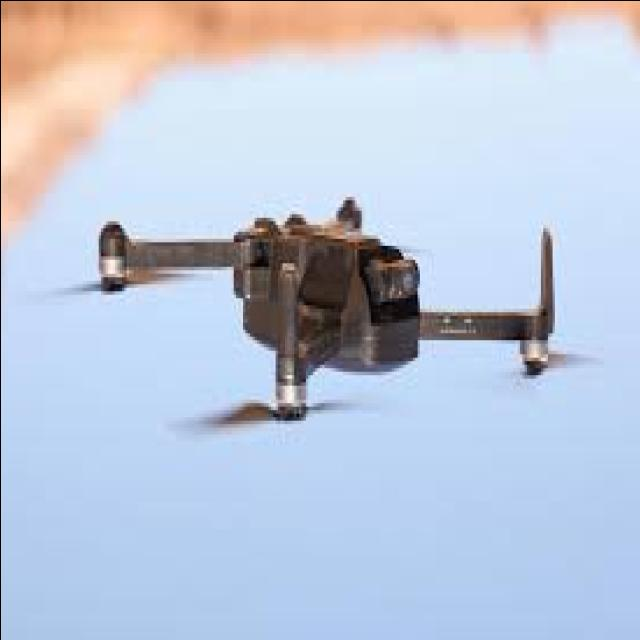drone: (31, 167, 596, 446)
